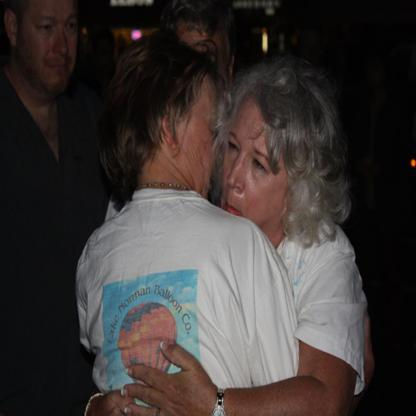face: (222, 102, 288, 227), (180, 70, 220, 200), (20, 2, 77, 90)
